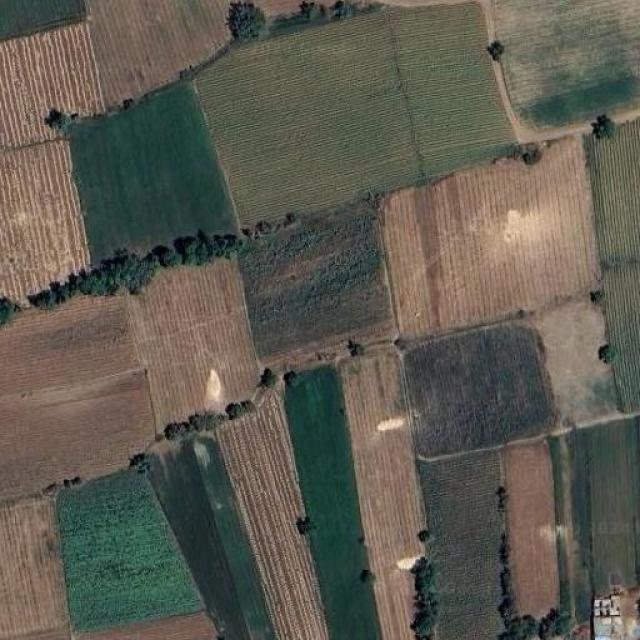land-Sx1C: (196, 15, 416, 224), (381, 136, 598, 338), (71, 82, 236, 263), (215, 389, 329, 639), (239, 201, 395, 374), (284, 366, 380, 639), (338, 346, 425, 639), (150, 439, 276, 639), (125, 259, 260, 432), (58, 470, 201, 631), (390, 4, 514, 177), (0, 372, 154, 499), (404, 324, 551, 457), (494, 0, 640, 126), (418, 450, 504, 639), (88, 0, 230, 109), (0, 139, 90, 302), (0, 298, 138, 396), (0, 21, 104, 146), (576, 418, 640, 594), (532, 299, 619, 428), (502, 439, 560, 617), (0, 496, 69, 639), (550, 432, 592, 622), (585, 118, 640, 262), (602, 262, 640, 411), (72, 612, 216, 639), (0, 0, 85, 39), (242, 0, 369, 18)
